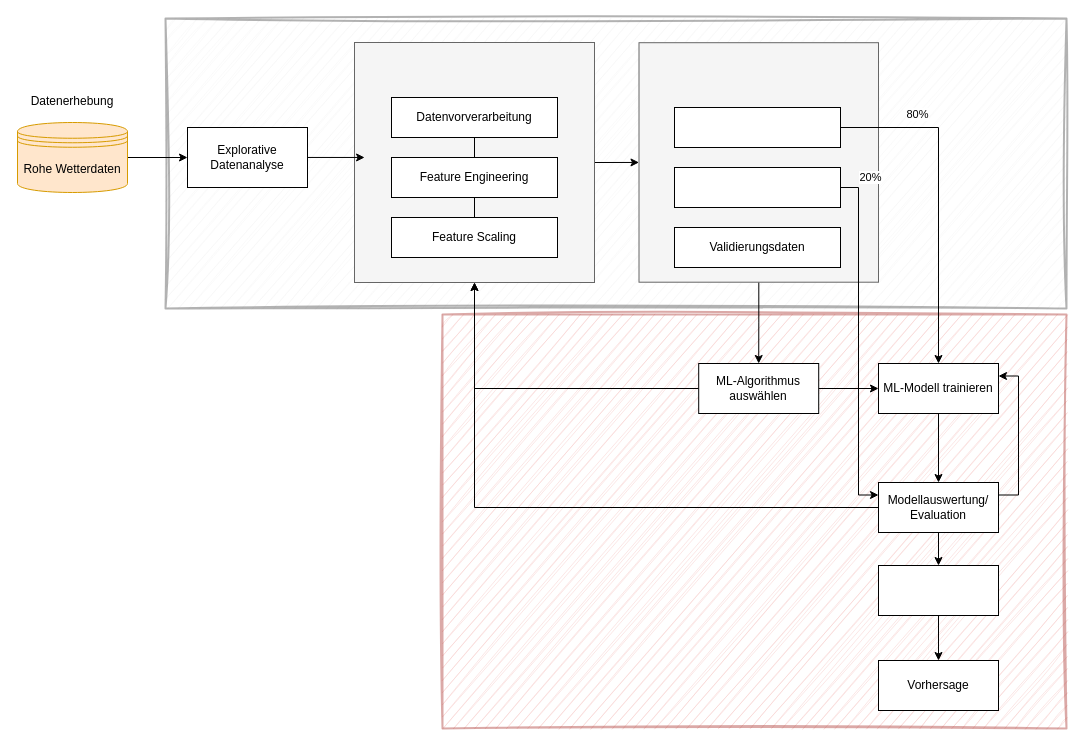
Image size: 1085x746. Some labels were removed from this diagram. Each missing label, with the box of its shape:
Datenaufbereitung: (354, 42, 594, 282)
Datenteilung: (638, 42, 878, 282)
Prädiktives Modell: (878, 564, 998, 616)
Testdaten: (674, 166, 840, 208)
Trainingsdaten: (674, 106, 840, 148)
